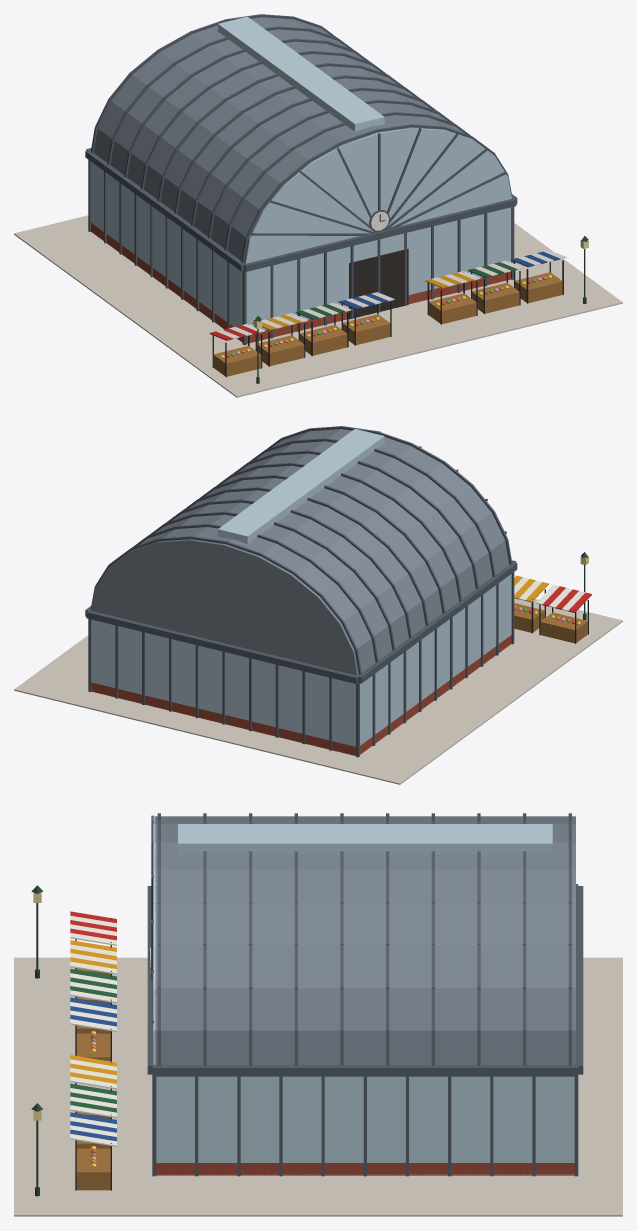
File: Simge_pazar_pavyonu_Hafif.fbx
3 views of the same model, one above another, from view 1: azimuth 30°, elevation 25°; view 2: azimuth 150°, elevation 25°; view 3: azimuth 270°, elevation 25° (orthographic). The views are drawn at different scales.
Visible parts, largest first — view 1: Simge_pazar_pavyonu_Hafif; view 2: Simge_pazar_pavyonu_Hafif; view 3: Simge_pazar_pavyonu_Hafif.
Boxes of the visible parts, x1,y1,x2,y2 form: Simge_pazar_pavyonu_Hafif: [14, 14, 622, 397]; Simge_pazar_pavyonu_Hafif: [14, 426, 622, 784]; Simge_pazar_pavyonu_Hafif: [14, 813, 622, 1216].
Bounding box in the file's own units: 26 × 11.98 × 26.
